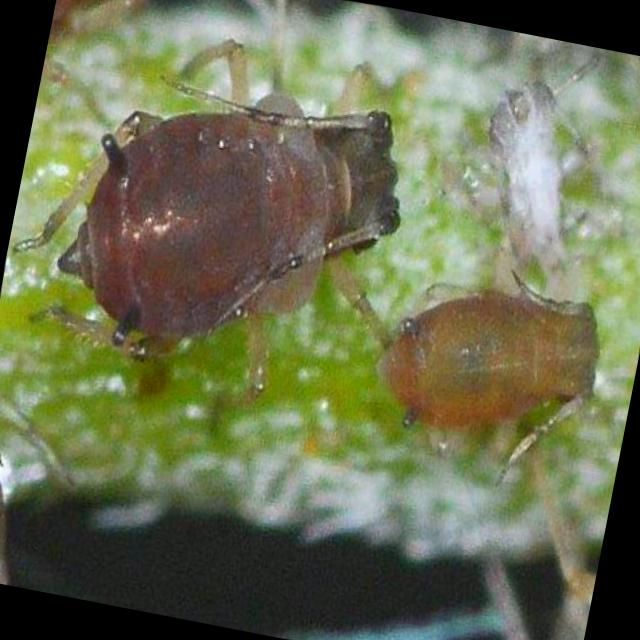aphid: (0, 0, 484, 418), (342, 256, 634, 490)
